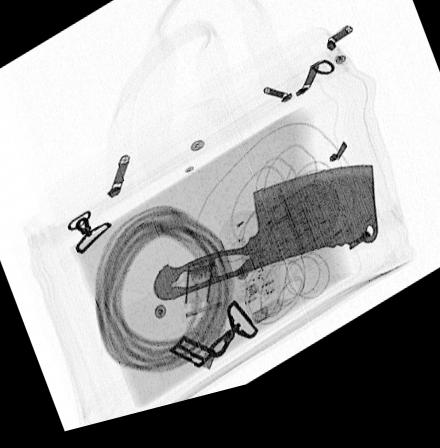Knife: (151, 182, 379, 310)
